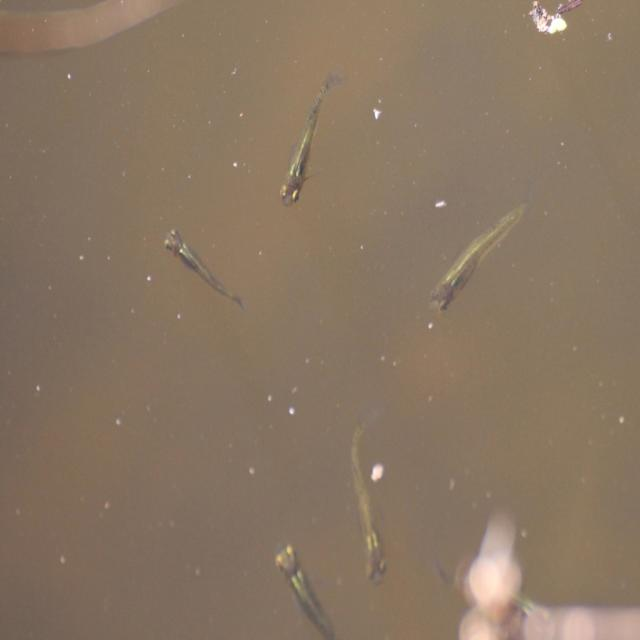Sivrisinek Baligi: (423, 178, 532, 315), (274, 72, 338, 207), (162, 221, 247, 315), (272, 537, 347, 638), (346, 400, 386, 583)
